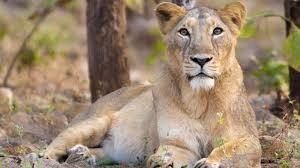lions: (56, 4, 298, 168)
